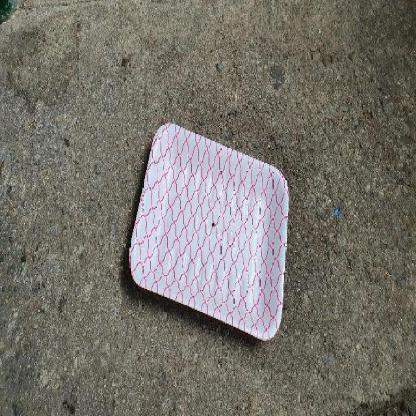Glass Cup: (128, 121, 291, 339), (129, 123, 289, 340)
